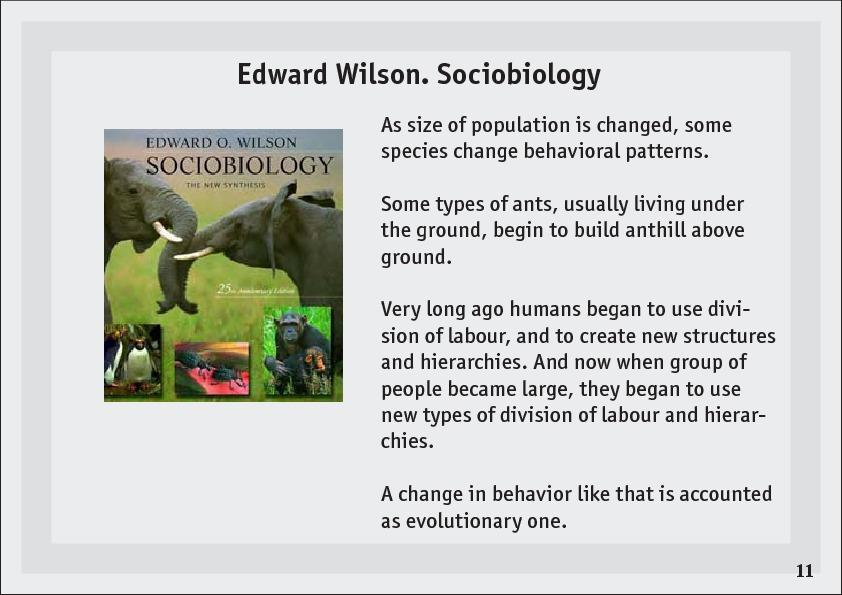paragraph: (364, 102, 790, 543)
title: (226, 45, 622, 100)
